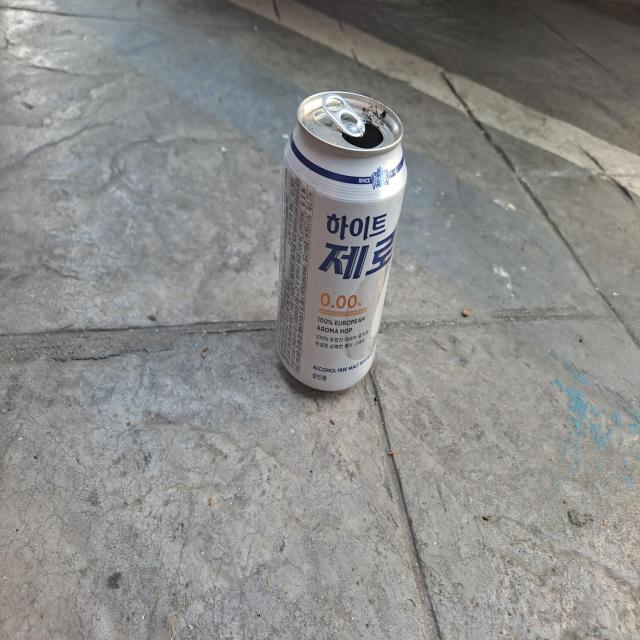can: (277, 90, 407, 391)
